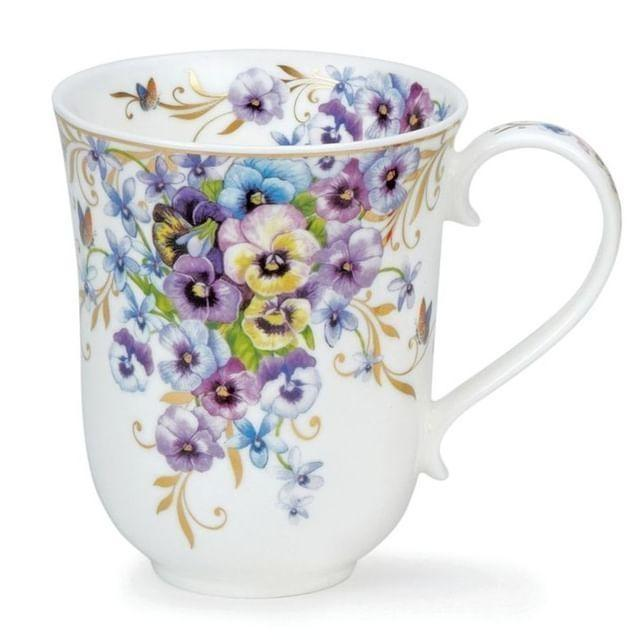cup-handle: (43, 38, 635, 604)
